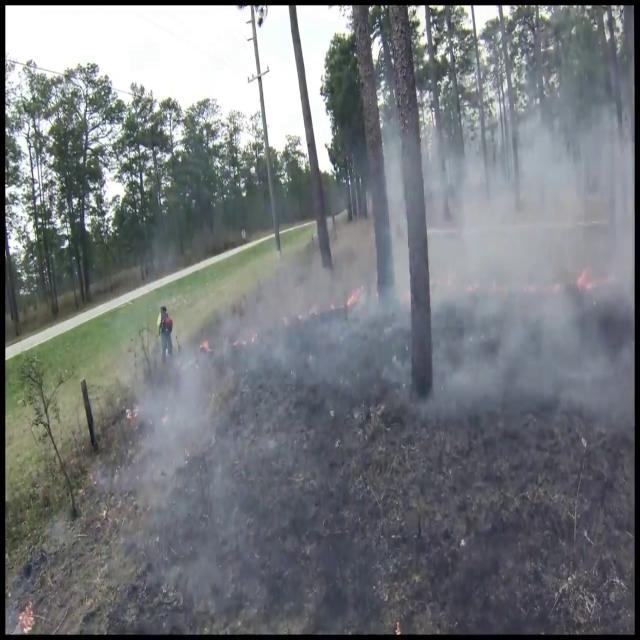Smoke: (116, 219, 352, 593), (402, 65, 634, 423)
